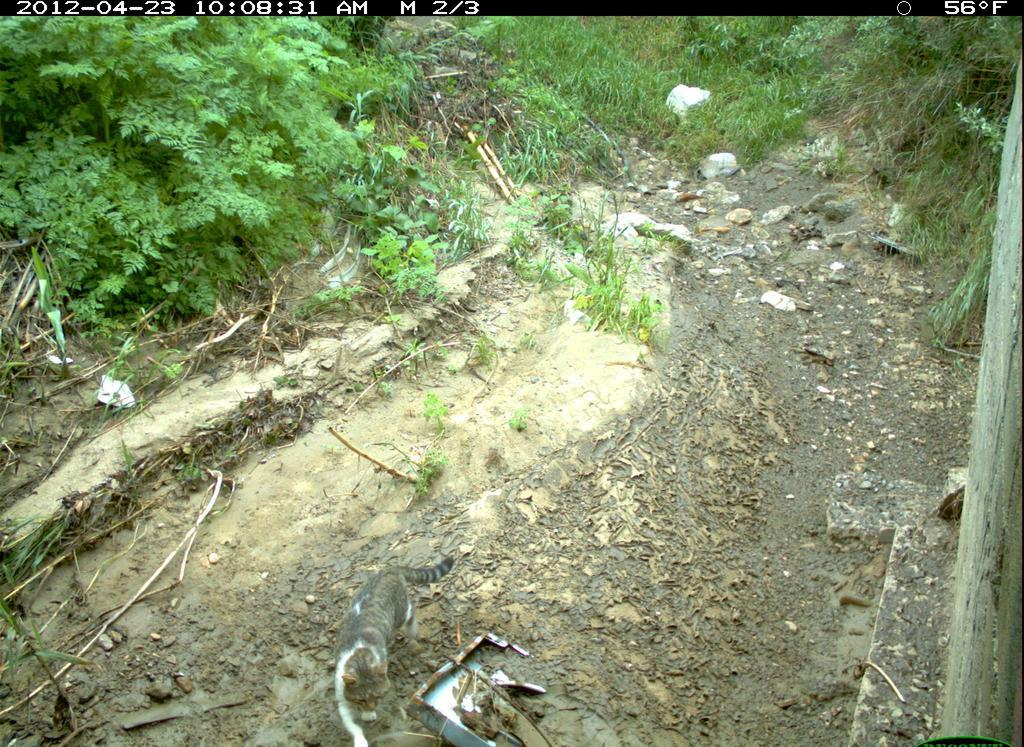cat: (313, 545, 474, 745)
